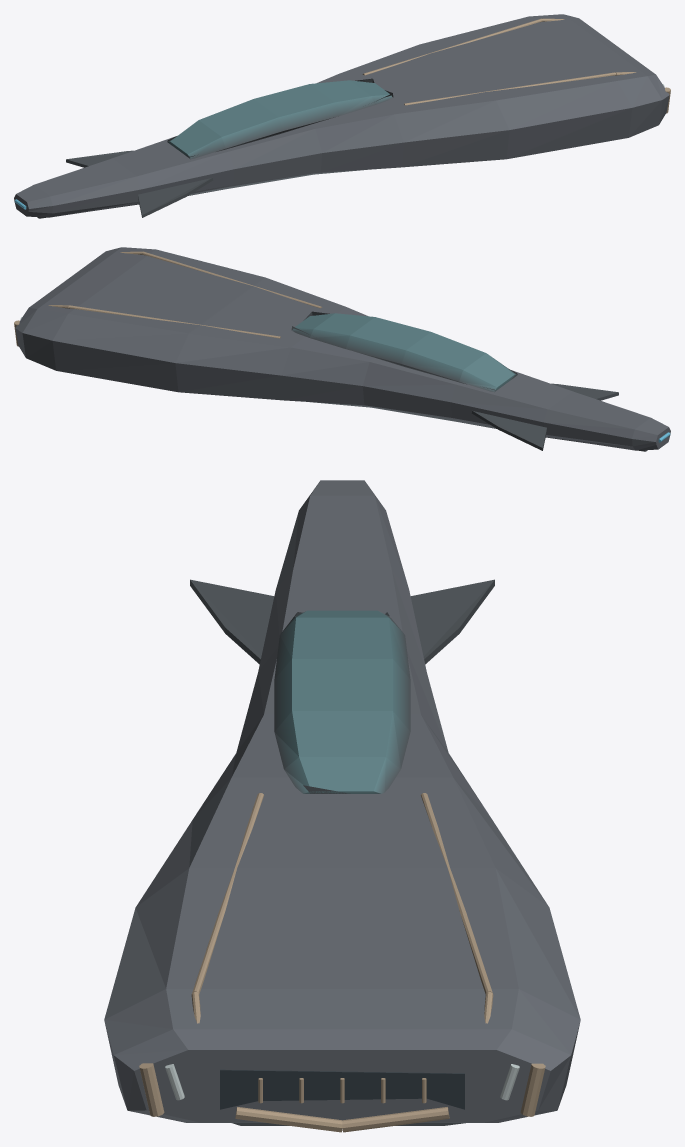
The model's file is jetjet_black_flight.glb.
3 views of the same model, one above another, from view 1: azimuth 30°, elevation 25°; view 2: azimuth 150°, elevation 25°; view 3: azimuth 270°, elevation 25° (orthographic). The views are drawn at different scales.
Visible parts, largest first — view 1: hull_0, cockpit_frame_2, aft_fins_7, bonnet_edge_3, lower_keel_1; view 2: hull_0, cockpit_frame_2, aft_fins_7, bonnet_edge_3, lower_keel_1; view 3: hull_0, cockpit_frame_2, aft_fins_7, front_grille_8, bonnet_edge_3, front_chevron_6, front_corner_4.
Boxes of the visible parts, bbox=[...] form: hull_0: bbox=[14, 14, 669, 217]; cockpit_frame_2: bbox=[167, 78, 393, 159]; aft_fins_7: bbox=[66, 150, 213, 217]; bonnet_edge_3: bbox=[362, 18, 636, 105]; lower_keel_1: bbox=[37, 169, 367, 218]; hull_0: bbox=[15, 247, 670, 450]; cockpit_frame_2: bbox=[291, 311, 517, 392]; aft_fins_7: bbox=[471, 383, 618, 450]; bonnet_edge_3: bbox=[48, 251, 322, 338]; lower_keel_1: bbox=[310, 402, 647, 451]; hull_0: bbox=[104, 480, 580, 1122]; cockpit_frame_2: bbox=[274, 610, 410, 793]; aft_fins_7: bbox=[190, 579, 494, 664]; front_grille_8: bbox=[220, 1069, 464, 1109]; bonnet_edge_3: bbox=[191, 793, 493, 1023]; front_chevron_6: bbox=[235, 1107, 449, 1132]; front_corner_4: bbox=[139, 1063, 545, 1116].
Bounding box in the file's own units: 10.21 × 1.23 × 3.5.
